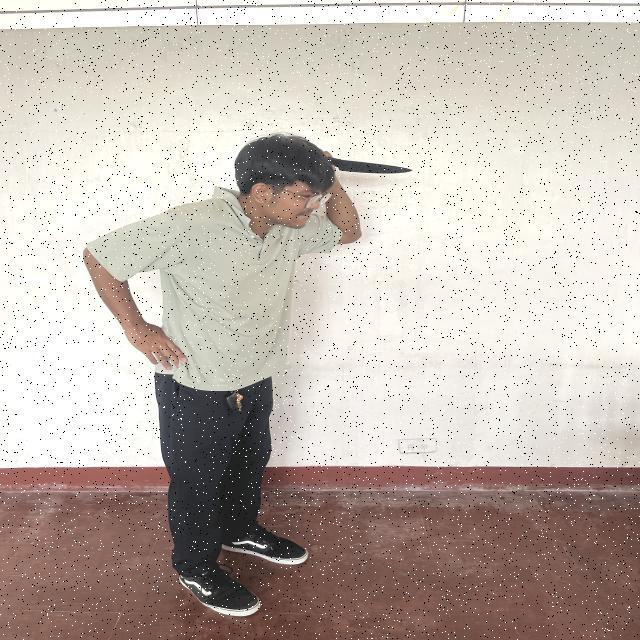knife: (330, 156, 412, 174)
non-violence: (86, 135, 413, 613)
